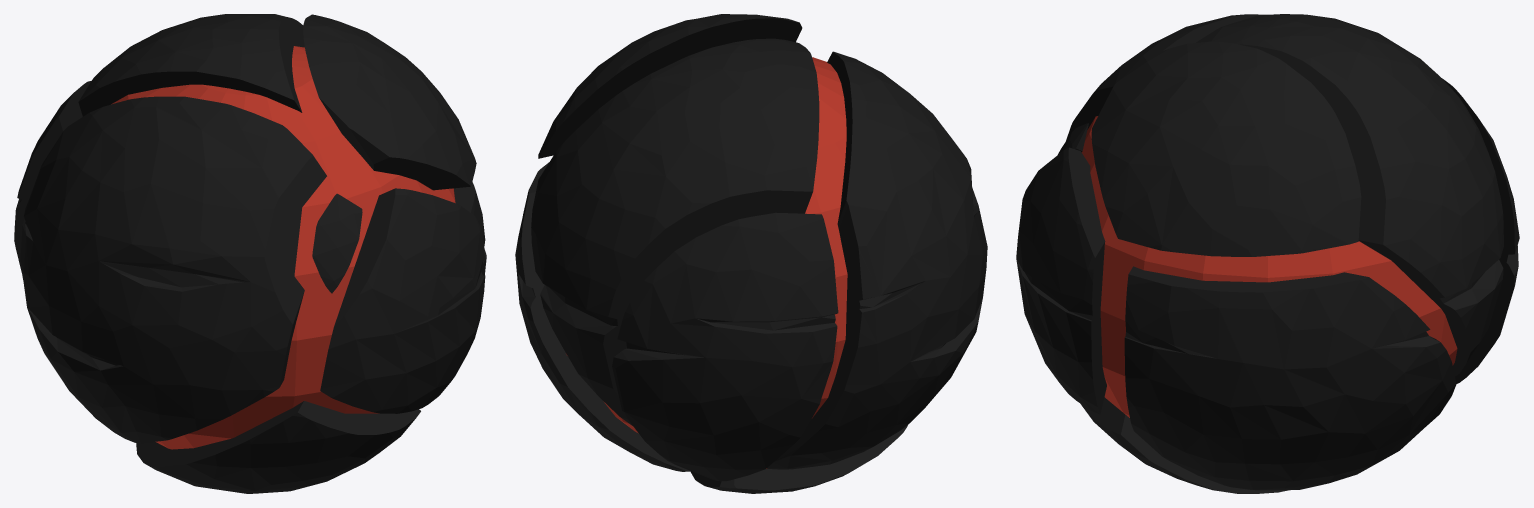
Rendered from planet-11.glb.
3 renders of one model, left to right at view 1: azimuth 30°, elevation 25°; view 2: azimuth 150°, elevation 25°; view 3: azimuth 270°, elevation 25°, orthographic. The views are drawn at different scales.
Parts seen in each view (by area): view 1: Planet_11; view 2: Planet_11; view 3: Planet_11.
Boxes of the visible parts, bbox=[...] form: Planet_11: bbox=[14, 14, 486, 493]; Planet_11: bbox=[515, 14, 987, 493]; Planet_11: bbox=[1016, 14, 1519, 493].
Bounding box in the file's own units: 5.59 × 5.67 × 5.74.
